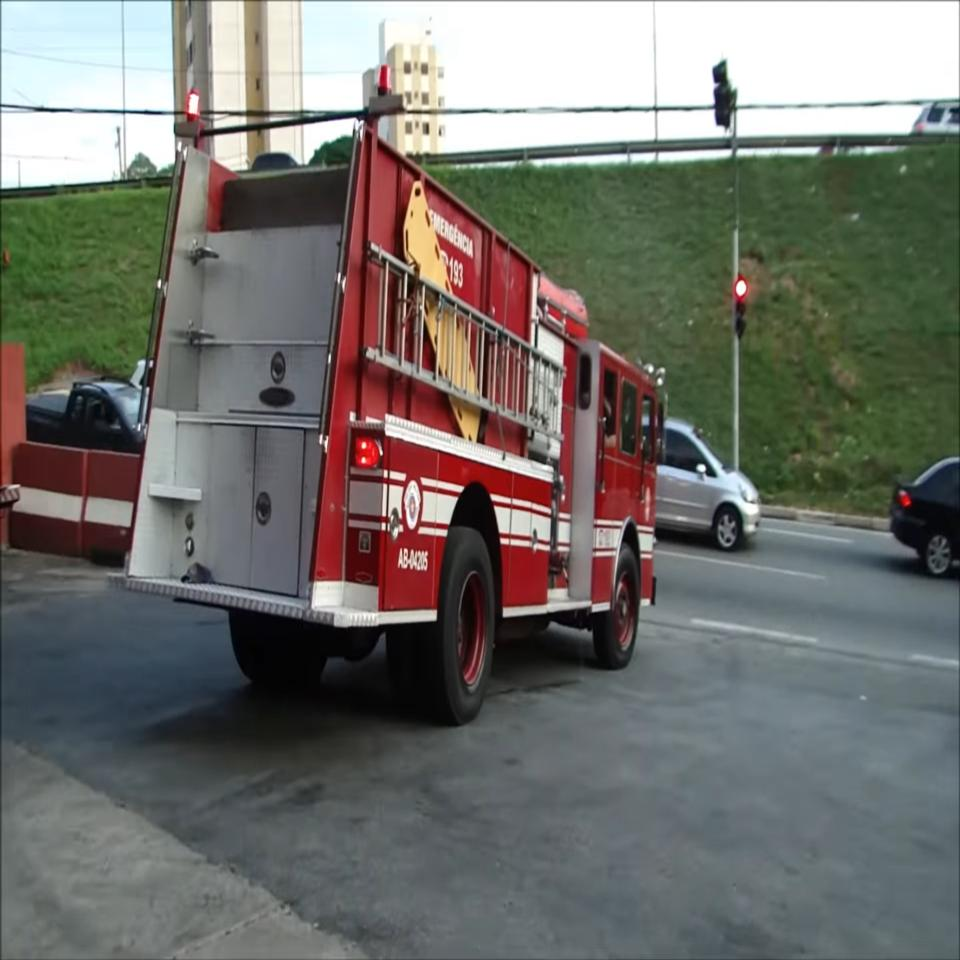viatura: (112, 63, 666, 730)
